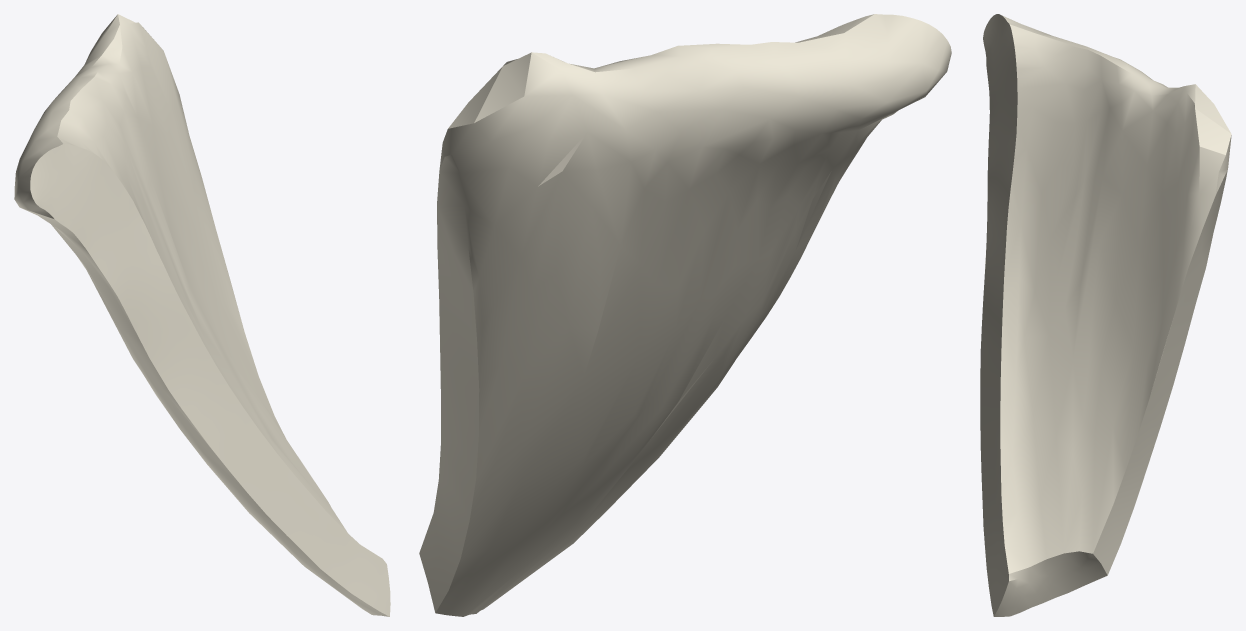
Rendered from fma26033_mm1559.glb.
3 renders of one model, left to right at view 1: azimuth 30°, elevation 25°; view 2: azimuth 150°, elevation 25°; view 3: azimuth 270°, elevation 25°, orthographic. The views are drawn at different scales.
Parts seen in each view (by area): view 1: FMA26033_MM1559; view 2: FMA26033_MM1559; view 3: FMA26033_MM1559.
Part boxes in pixels (<box>): FMA26033_MM1559: <box>14,14,390,616</box>; FMA26033_MM1559: <box>419,14,951,616</box>; FMA26033_MM1559: <box>980,14,1231,616</box>.
Bounding box in the file's own units: 0.0162 × 0.0232 × 0.0112.
